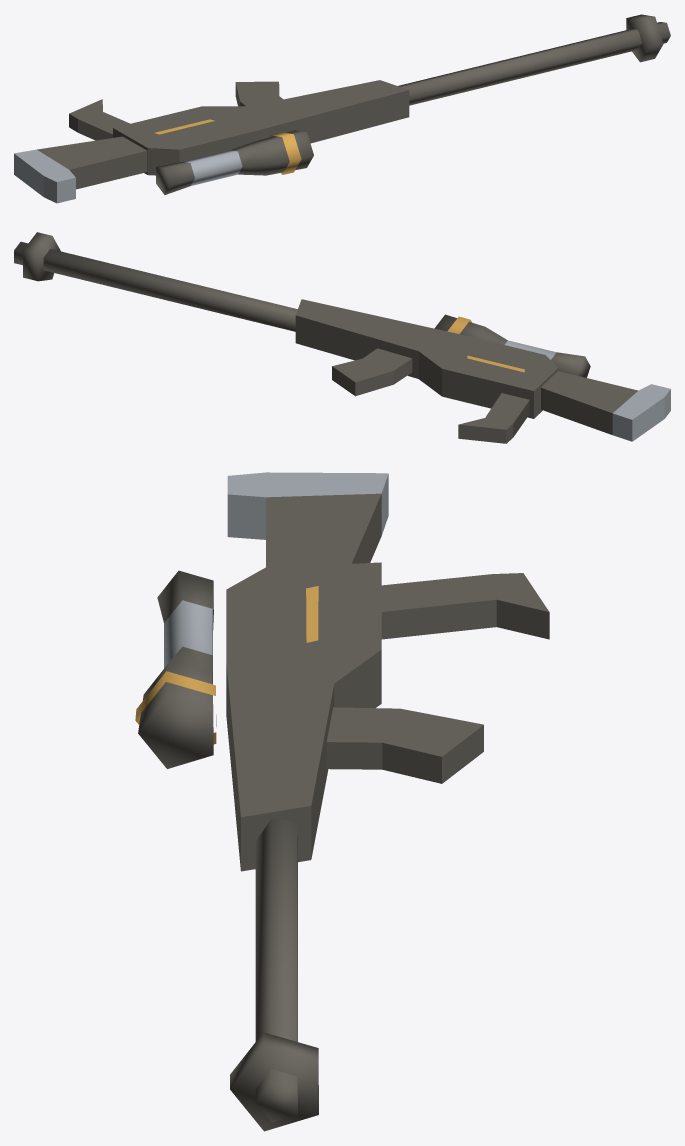
The model's file is gun.FBX.
3 views of the same model, one above another, from view 1: azimuth 30°, elevation 25°; view 2: azimuth 150°, elevation 25°; view 3: azimuth 270°, elevation 25° (orthographic). The views are drawn at different scales.
Visible parts, largest first — view 1: gun; view 2: gun; view 3: gun.
Part boxes in pixels (x1=…): gun: x1=14, y1=14, x2=670, y2=203; gun: x1=14, y1=232, x2=670, y2=443; gun: x1=135, y1=472, x2=549, y2=1131.
Size of the model in its own units: 61.56 by 17.68 by 4.16.
